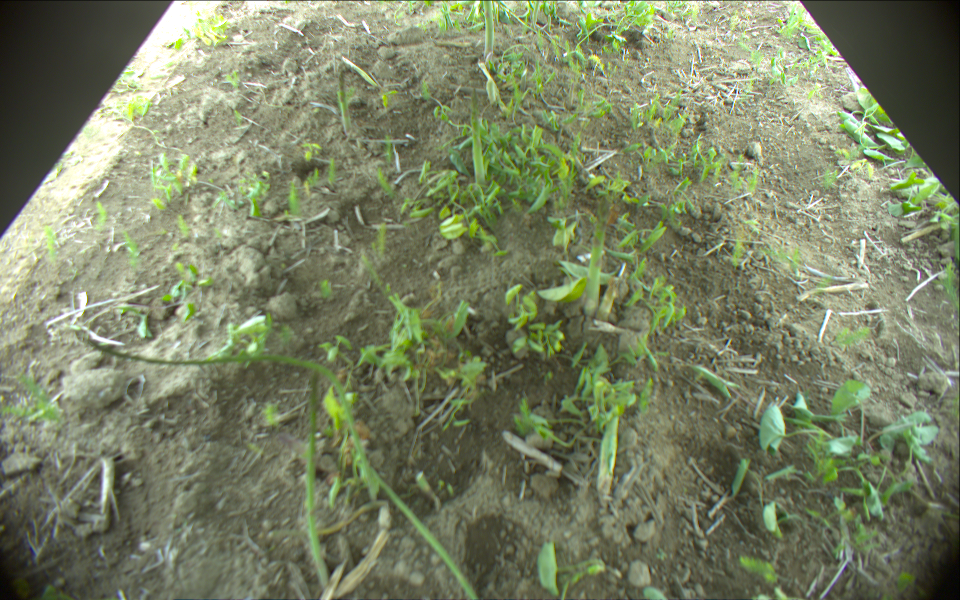aspa: (78, 335, 371, 480), (349, 435, 482, 600), (303, 371, 333, 598), (579, 200, 613, 319), (471, 89, 486, 186), (338, 64, 353, 135), (482, 1, 495, 58)
